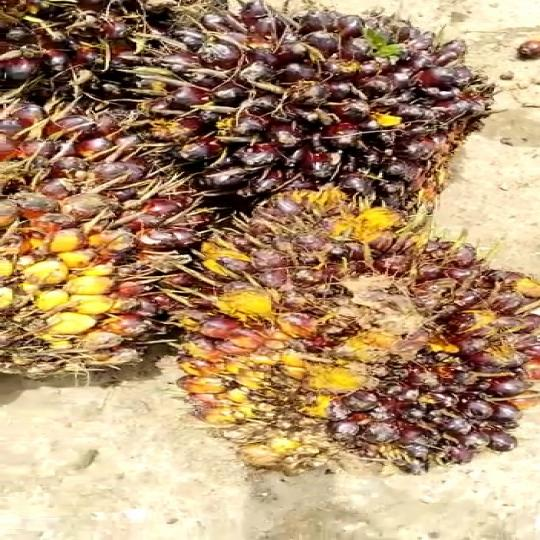kurang masak: (168, 182, 540, 475), (136, 0, 499, 208), (0, 97, 230, 378)
